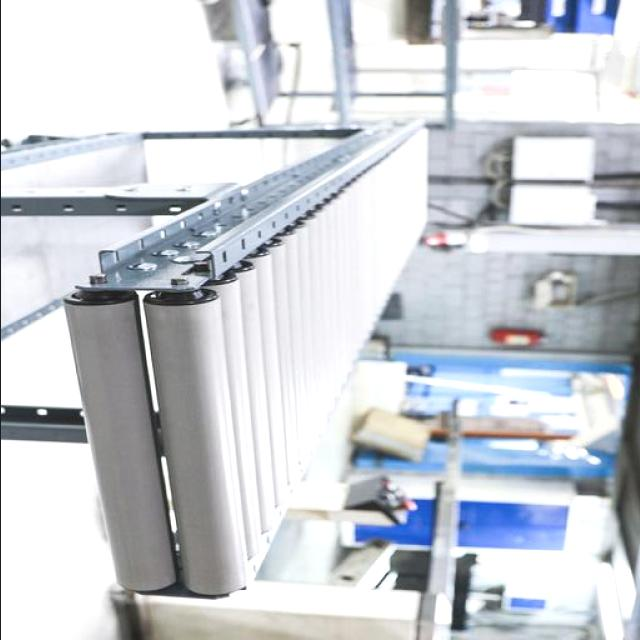conveyor: (84, 125, 426, 597)
